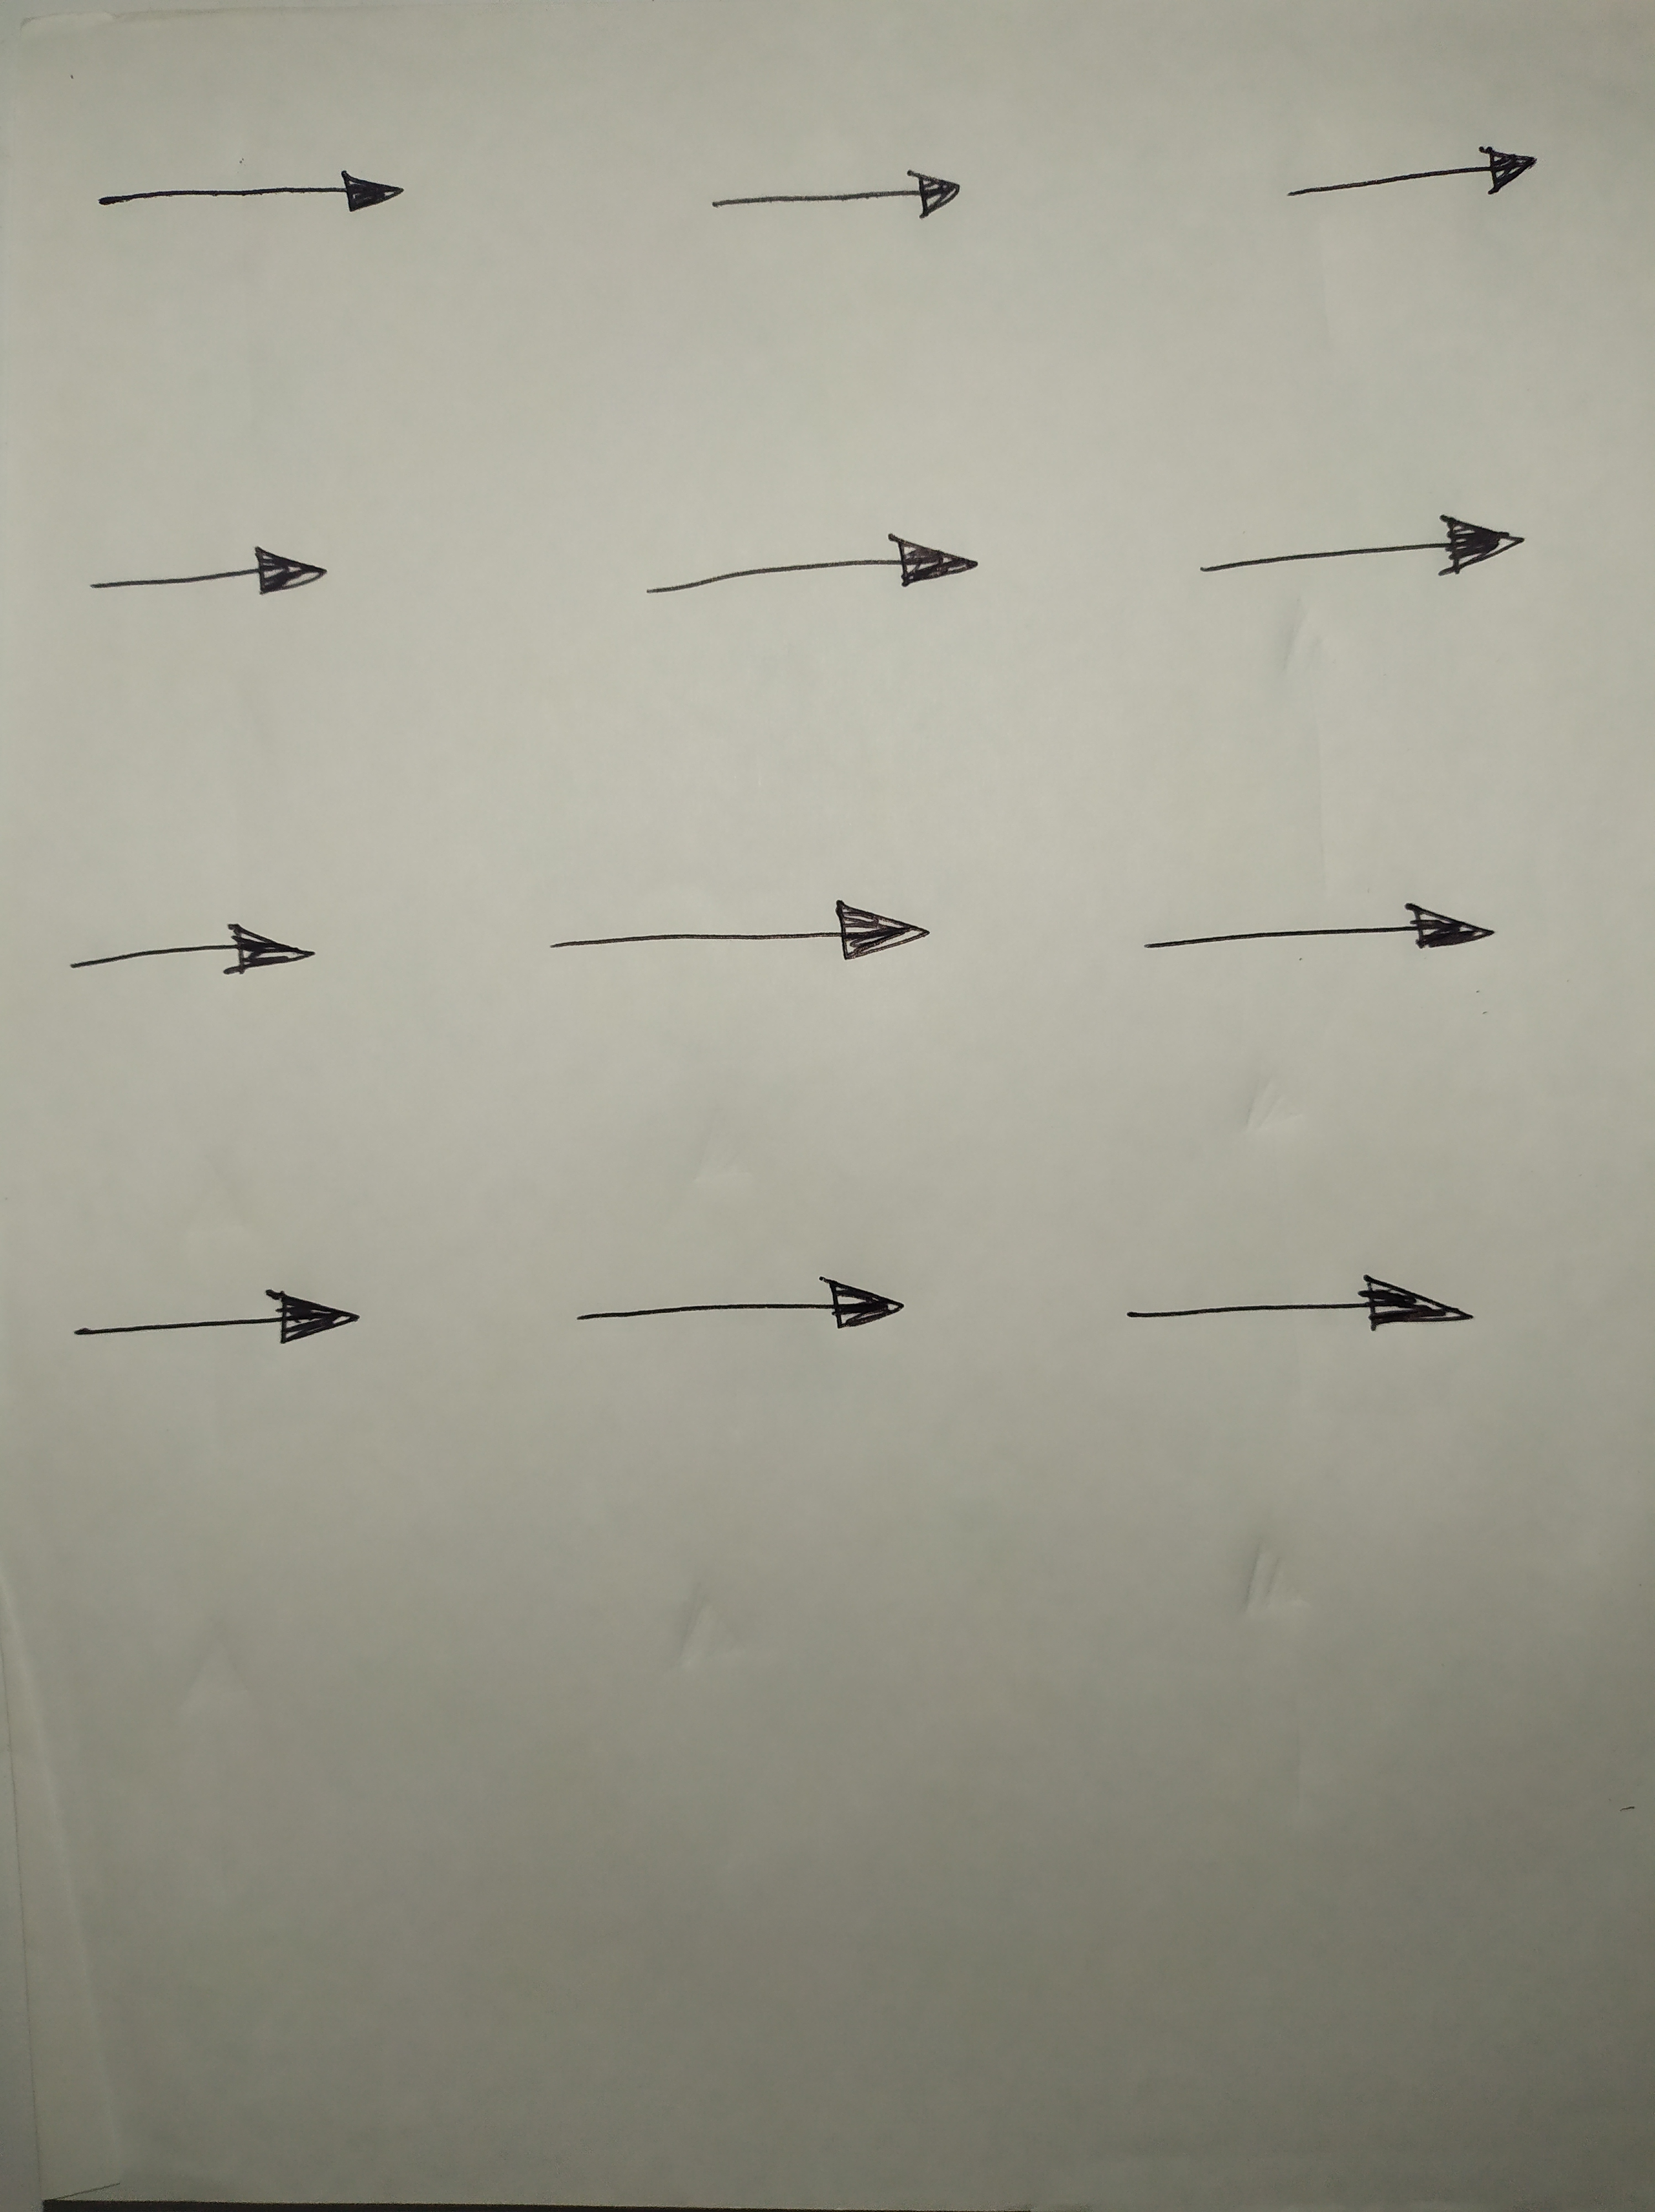arrow_line_right: (508, 883, 994, 1006), (1142, 483, 1568, 624), (1085, 1251, 1525, 1355), (1255, 111, 1587, 247), (626, 523, 991, 638), (1130, 874, 1516, 982), (61, 141, 450, 247), (542, 1260, 968, 1355), (59, 523, 365, 631), (54, 1265, 377, 1366), (683, 153, 994, 240), (52, 897, 334, 992)
